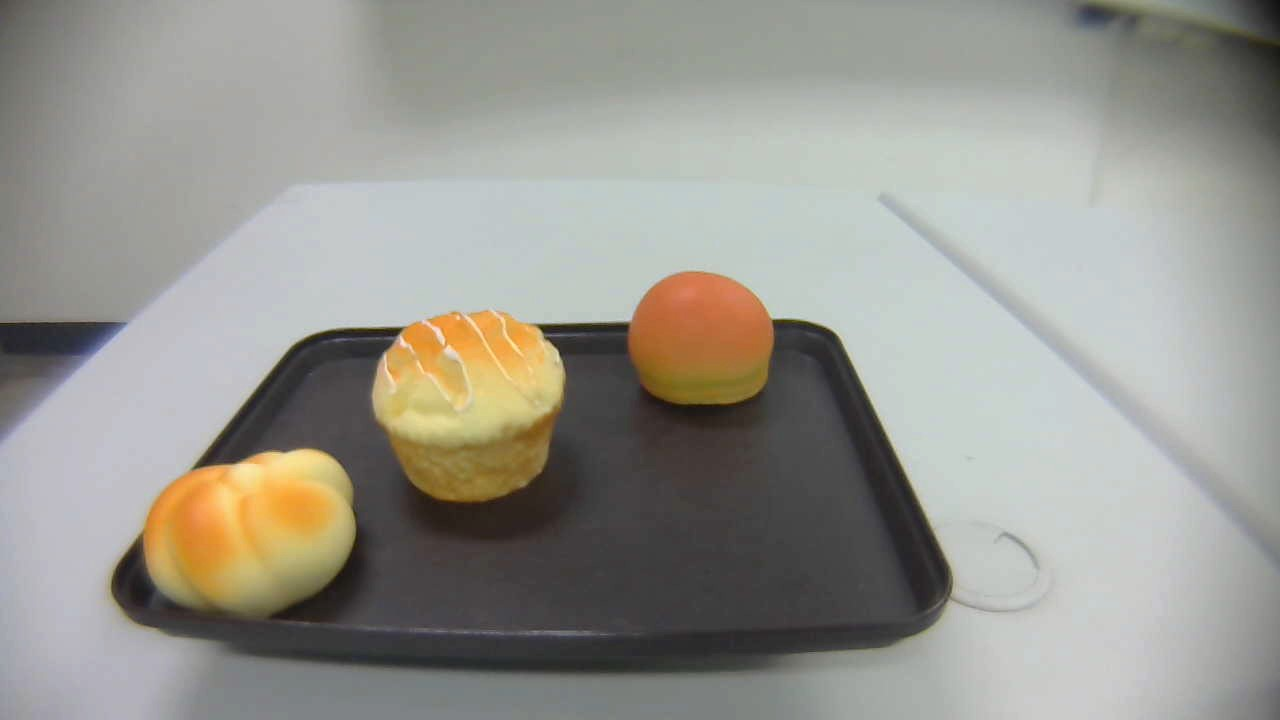bun: (627, 272, 774, 404)
cupcake: (370, 308, 567, 500)
twist bread: (144, 447, 356, 622)
